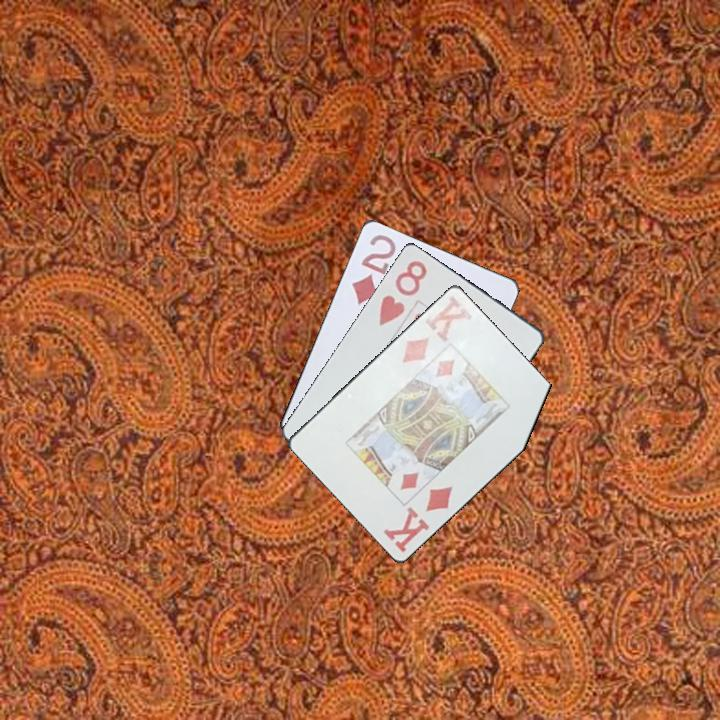2d: (348, 230, 399, 308)
8h: (375, 256, 430, 329)
Kd: (399, 292, 475, 366), (380, 482, 456, 555)
